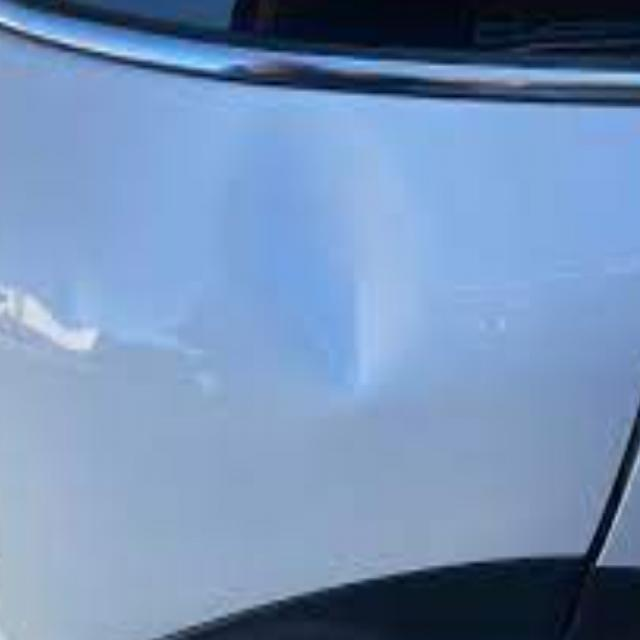dents: (212, 182, 438, 427)
